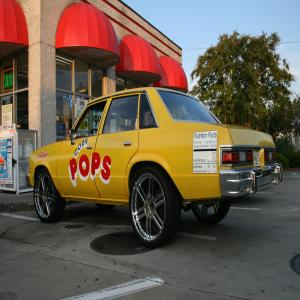Vehicle-registration-plate: (254, 150, 262, 169)
